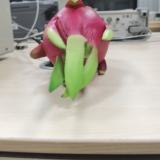pitaya: (40, 5, 110, 96)
